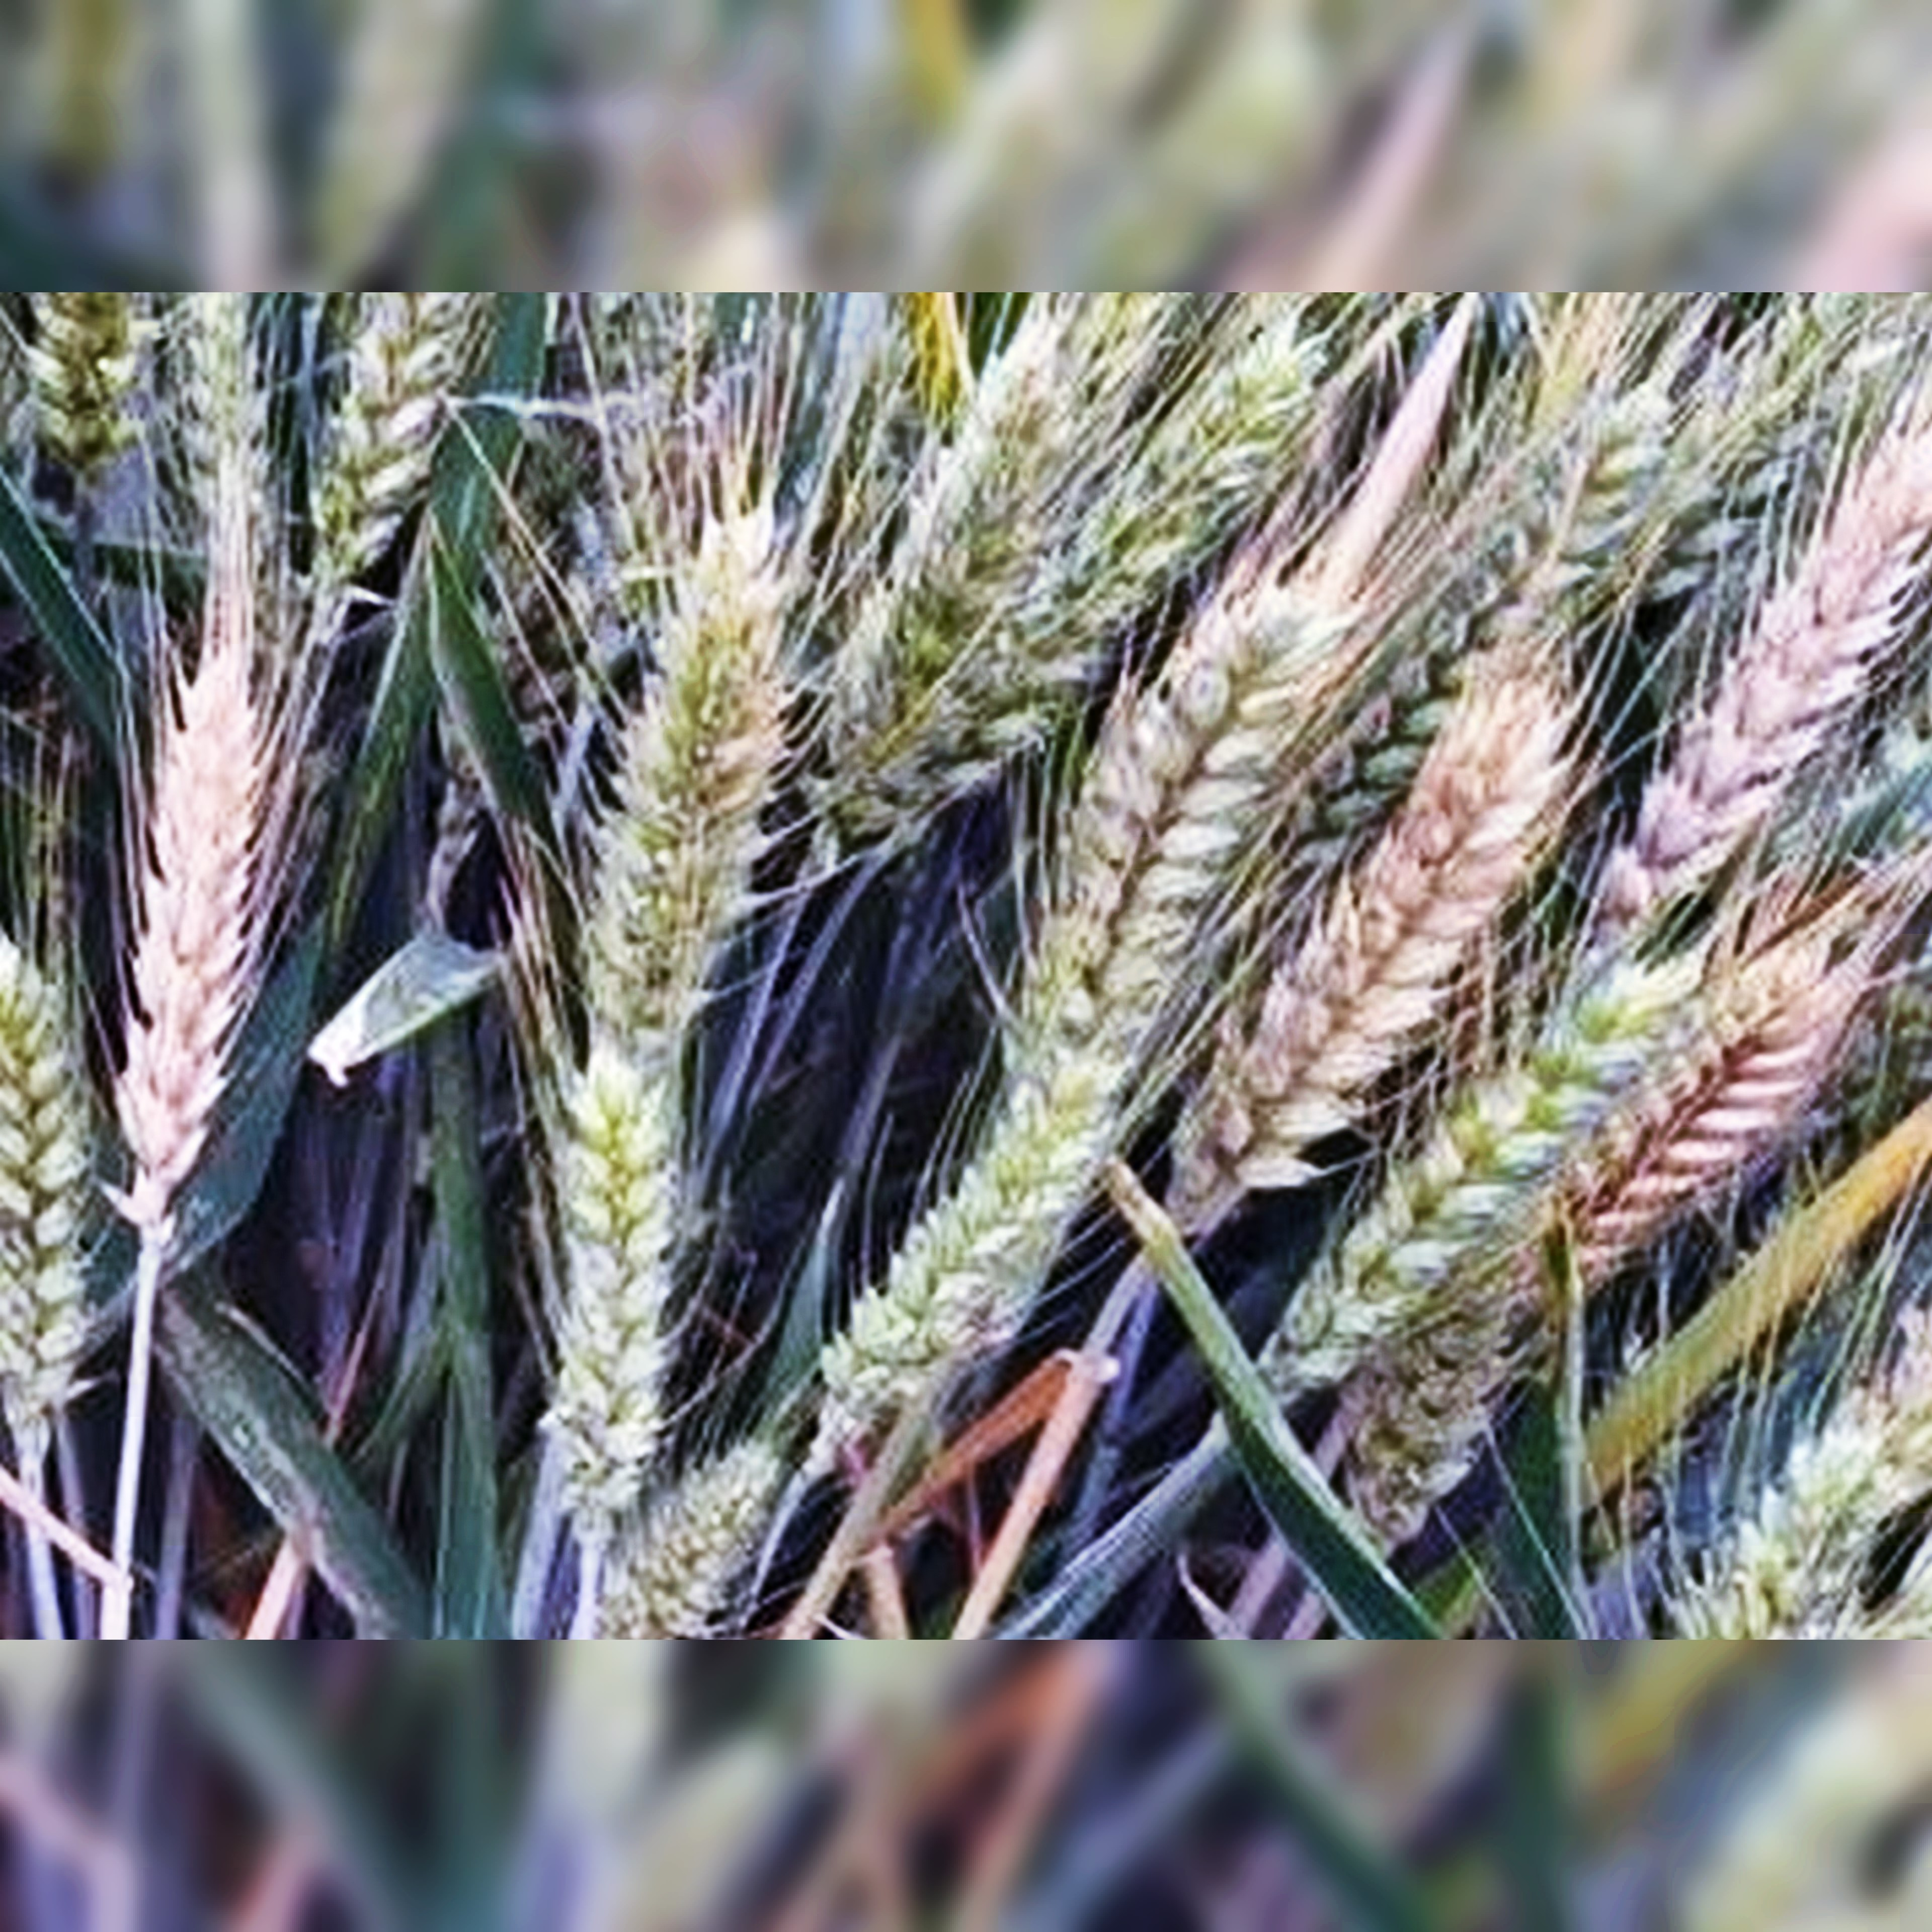Wheat scab: (948, 448, 1932, 1235), (88, 593, 306, 1208)
